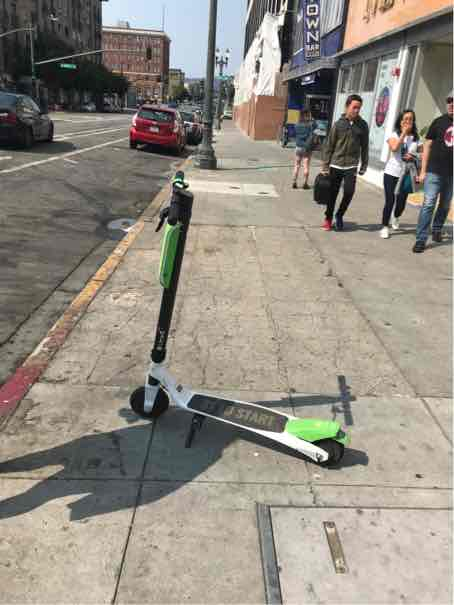scooter: (126, 157, 348, 481)
